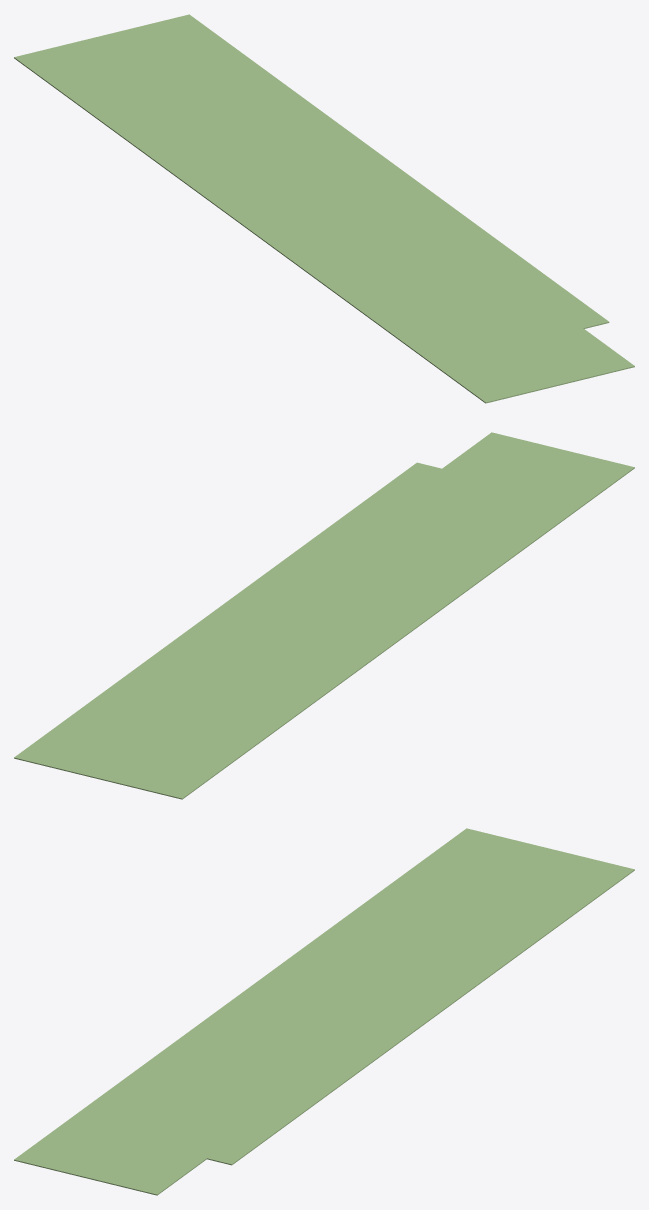
File: lawn_l.glb
3 views of the same model, one above another, from view 1: azimuth 30°, elevation 25°; view 2: azimuth 150°, elevation 25°; view 3: azimuth 330°, elevation 25° (orthographic). The views are drawn at different scales.
Parts seen in each view (by area): view 1: lawn_l_grass; view 2: lawn_l_grass; view 3: lawn_l_grass.
Boxes of the visible parts, box(x1,y1,x2,y2) form: lawn_l_grass: box(14, 14, 634, 403); lawn_l_grass: box(14, 432, 634, 799); lawn_l_grass: box(14, 828, 634, 1195).
Bounding box in the file's own units: 4.7 × 0.028 × 21.89.
